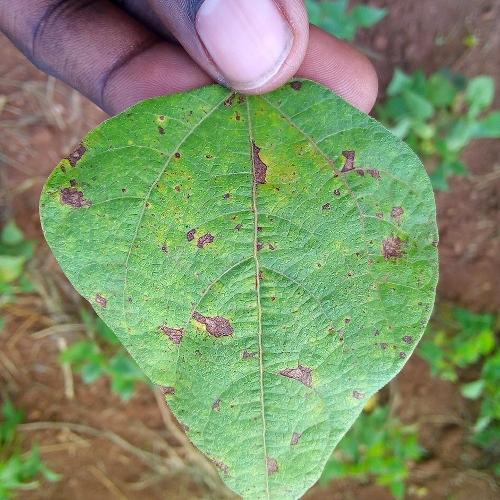hawar: (51, 94, 454, 438)
